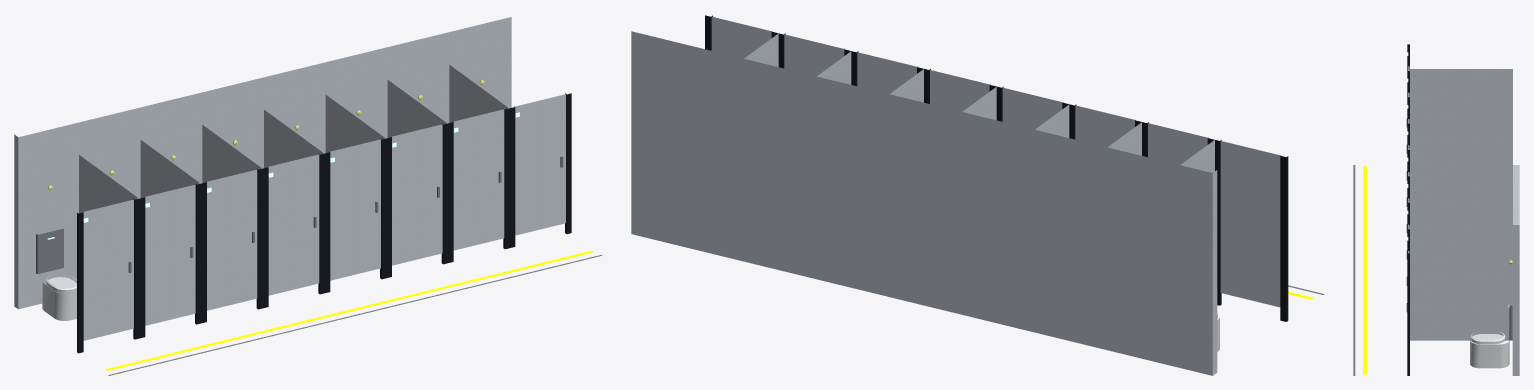
3 views of the same model, side by side, from view 1: azimuth 30°, elevation 25°; view 2: azimuth 150°, elevation 25°; view 3: azimuth 270°, elevation 25° (orthographic). The views are drawn at different scales.
Visible parts, largest first — view 1: Stall_Doors, Wet_Wall, Pilasters, Partitions, Court_Line_Floor, WC, WC_VacUnit, Aisle_Centre_Strip; view 2: Wet_Wall, Stall_Doors, Partitions, Pilasters; view 3: Partitions, Wet_Wall, WC, Pilasters, Court_Line_Floor, Aisle_Centre_Strip.
Boxes of the visible parts, left/top/right/bottom form: Stall_Doors: left=82, top=94, right=565, bottom=340; Wet_Wall: left=14, top=17, right=511, bottom=309; Pilasters: left=77, top=93, right=571, bottom=353; Partitions: left=79, top=65, right=509, bottom=213; Court_Line_Floor: left=105, top=250, right=593, bottom=370; WC: left=42, top=274, right=76, bottom=320; WC_VacUnit: left=36, top=228, right=63, bottom=273; Aisle_Centre_Strip: left=108, top=255, right=602, bottom=375; Wet_Wall: left=631, top=31, right=1217, bottom=375; Stall_Doors: left=711, top=16, right=1281, bottom=307; Partitions: left=744, top=33, right=1214, bottom=172; Pilasters: left=705, top=15, right=1288, bottom=321; Partitions: left=1409, top=69, right=1512, bottom=340; Wet_Wall: left=1512, top=165, right=1519, bottom=375; WC: left=1470, top=332, right=1509, bottom=368; Pilasters: left=1407, top=44, right=1409, bottom=375; Court_Line_Floor: left=1363, top=166, right=1366, bottom=374; Aisle_Centre_Strip: left=1353, top=165, right=1355, bottom=375.
Size of the model in its own units: 7.2 by 2.4 by 2.4.
Materials: 10 (3 with a texture image).
